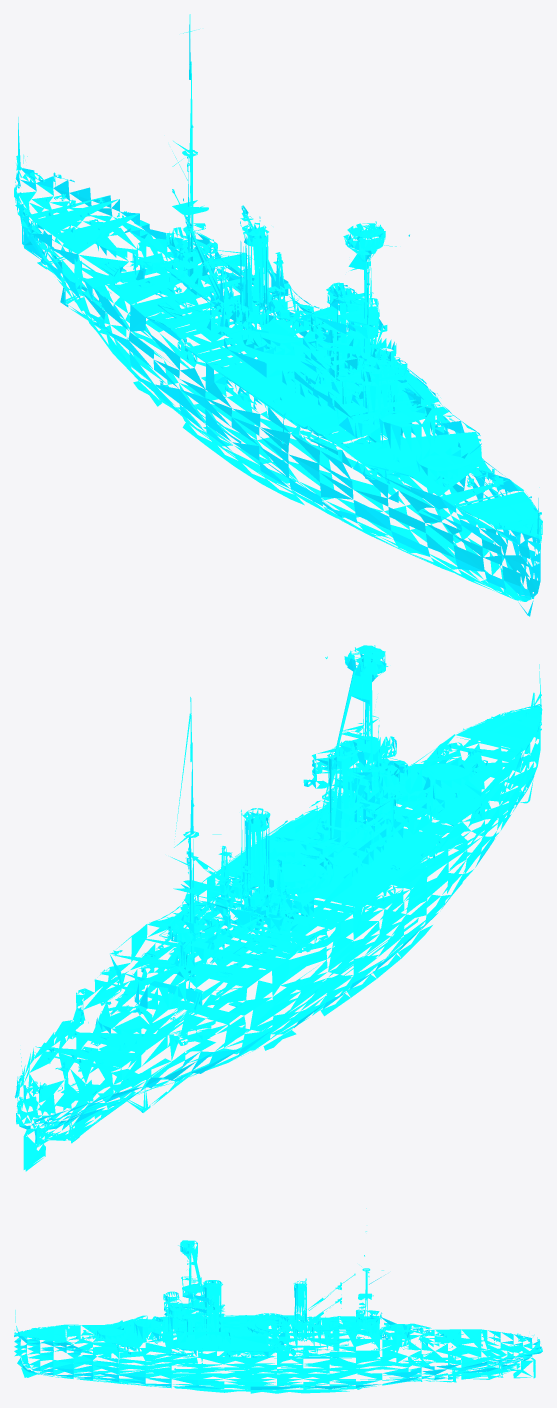
File: Bretagne.glb
The picture shows the model from 3 angles, top to bottom: view 1: azimuth 30°, elevation 25°; view 2: azimuth 150°, elevation 25°; view 3: azimuth 270°, elevation 25°; orthographic projection. The views are drawn at different scales.
Bounding box in the file's own units: 1.8 × 4.13 × 11.06.
